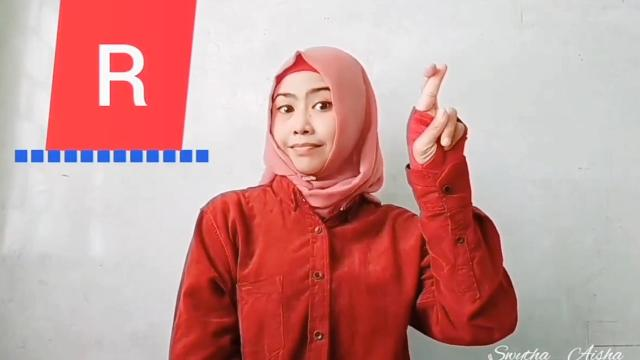R: (402, 58, 478, 170)
